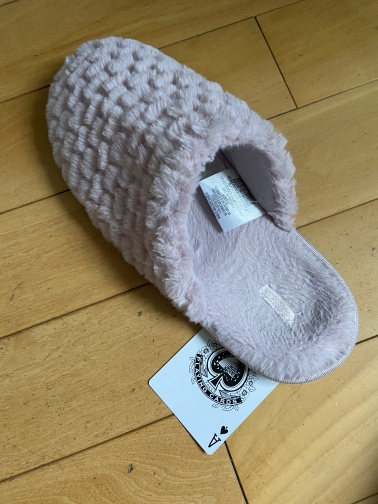ace: (147, 281, 311, 457)
